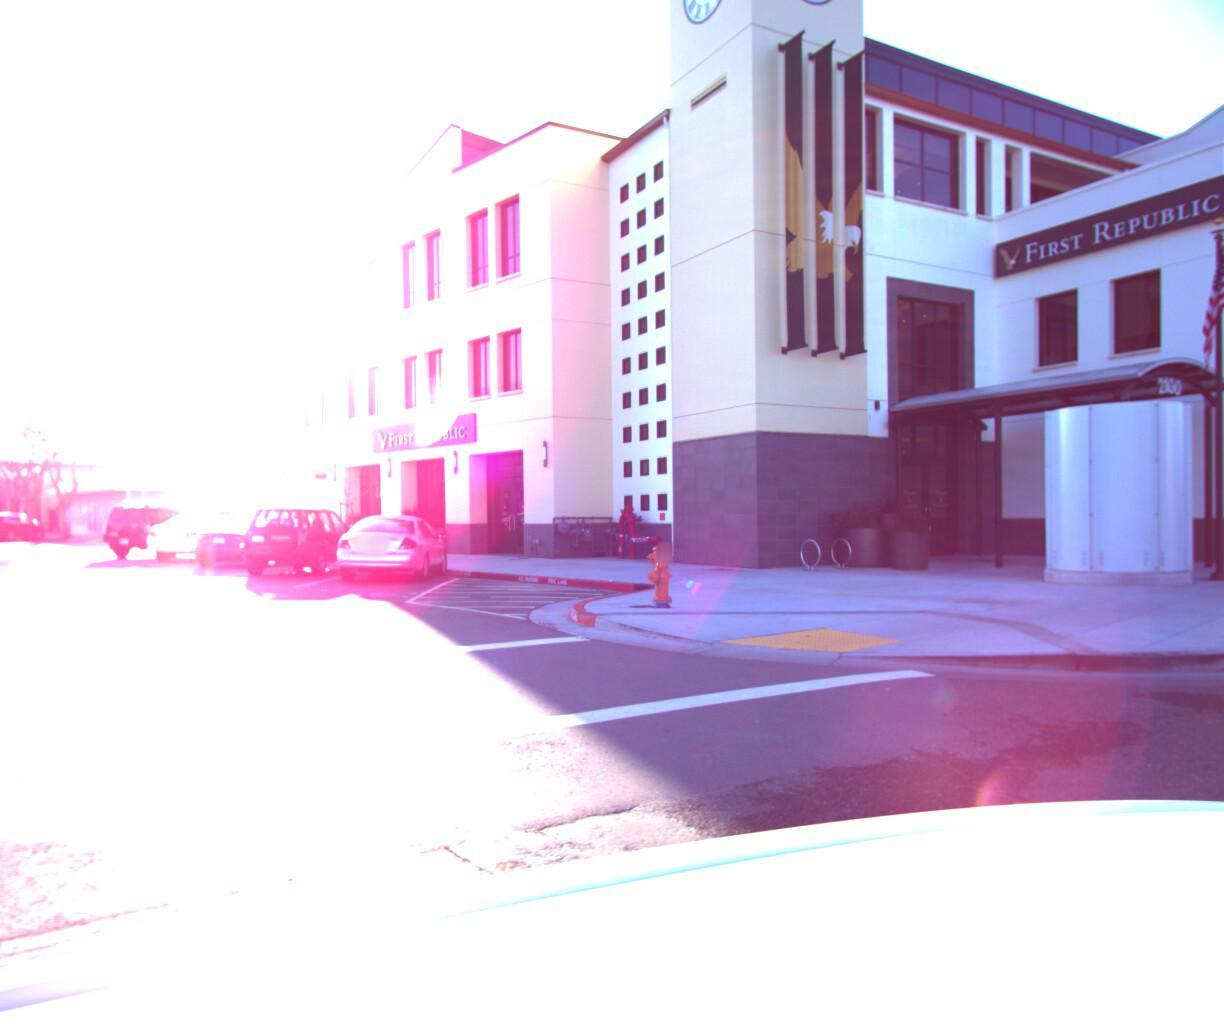car: (227, 502, 376, 580), (320, 506, 457, 588), (96, 498, 230, 558), (182, 514, 317, 569), (136, 513, 273, 563)
